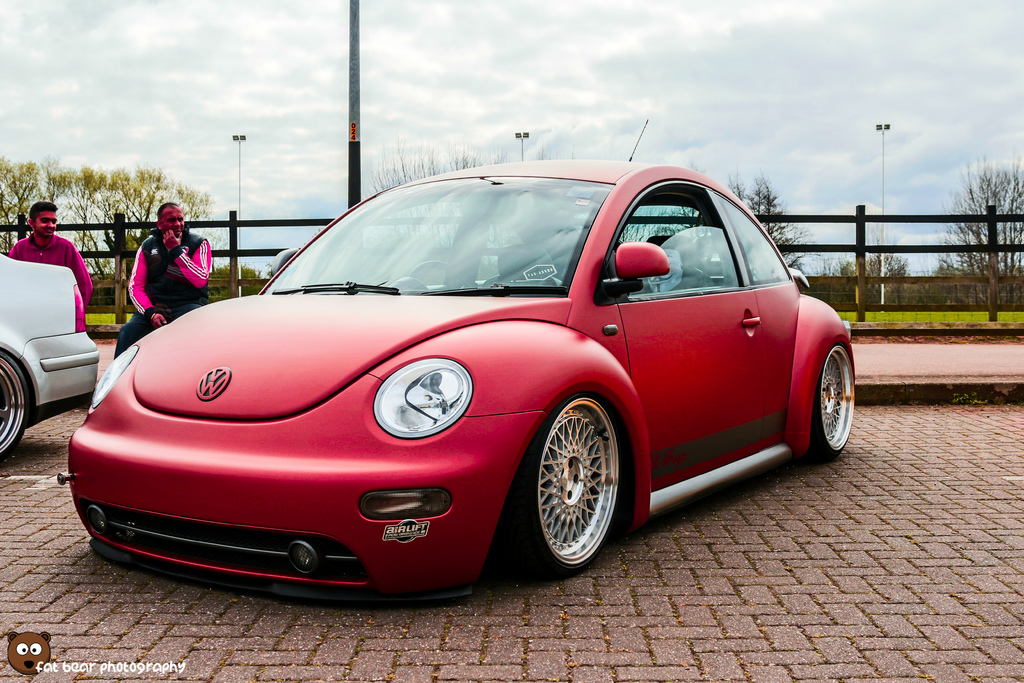Person: (113, 201, 212, 359), (7, 201, 93, 314)
